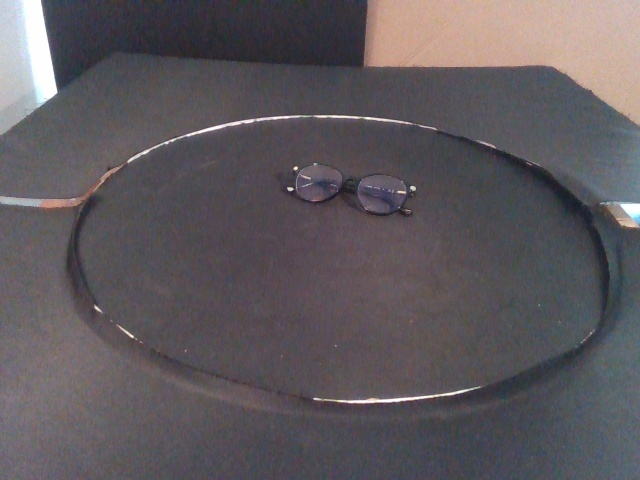glasses: (285, 161, 417, 221)
